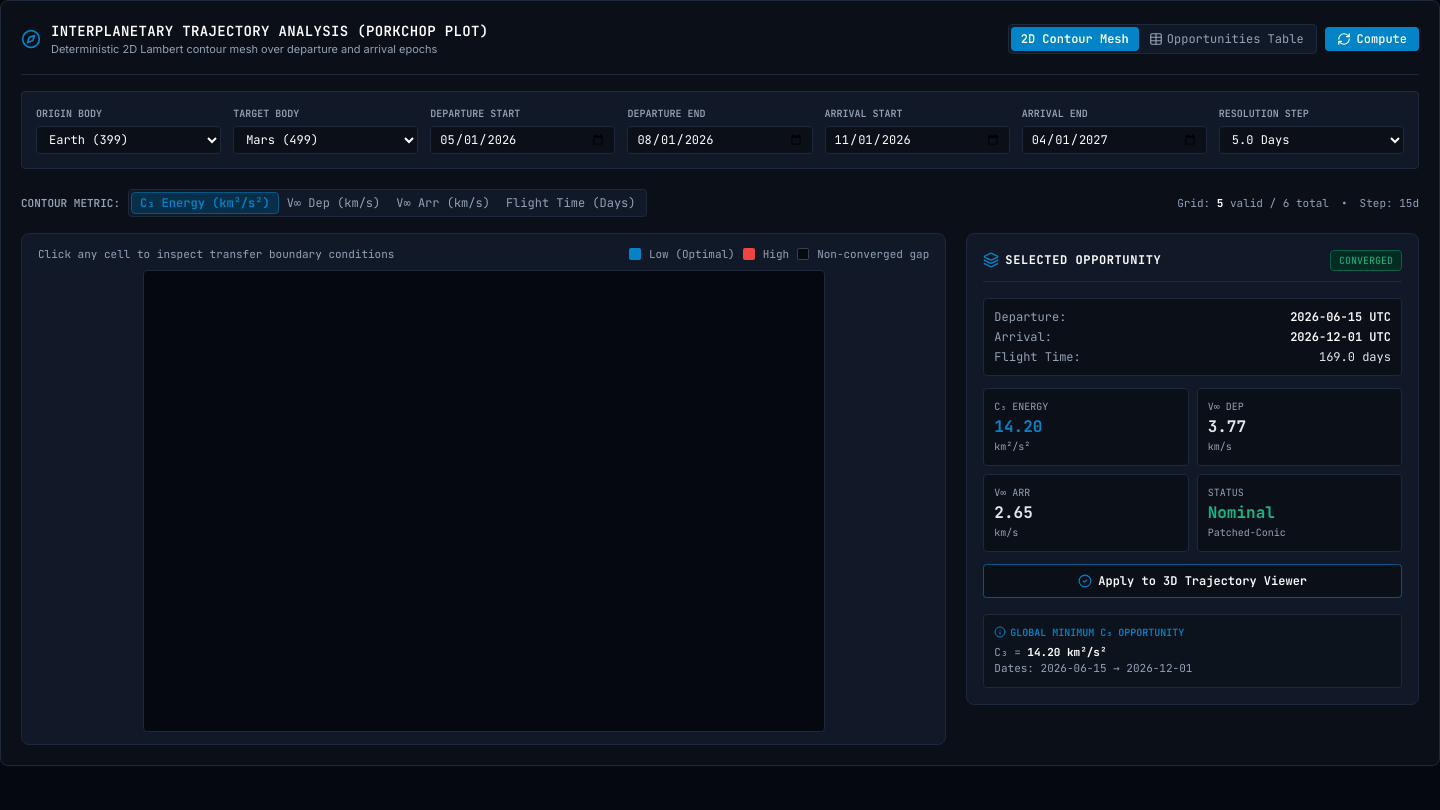
Test: PorkchopPlot Component (Astrodynamics Lab) › renders accessible table fallback with Pareto-optimal transfer opportunities
The width and height of the screenshot is (1440, 810).
Click the button "Opportunities Table" at (1226, 39), box [1139,27,1314,51]
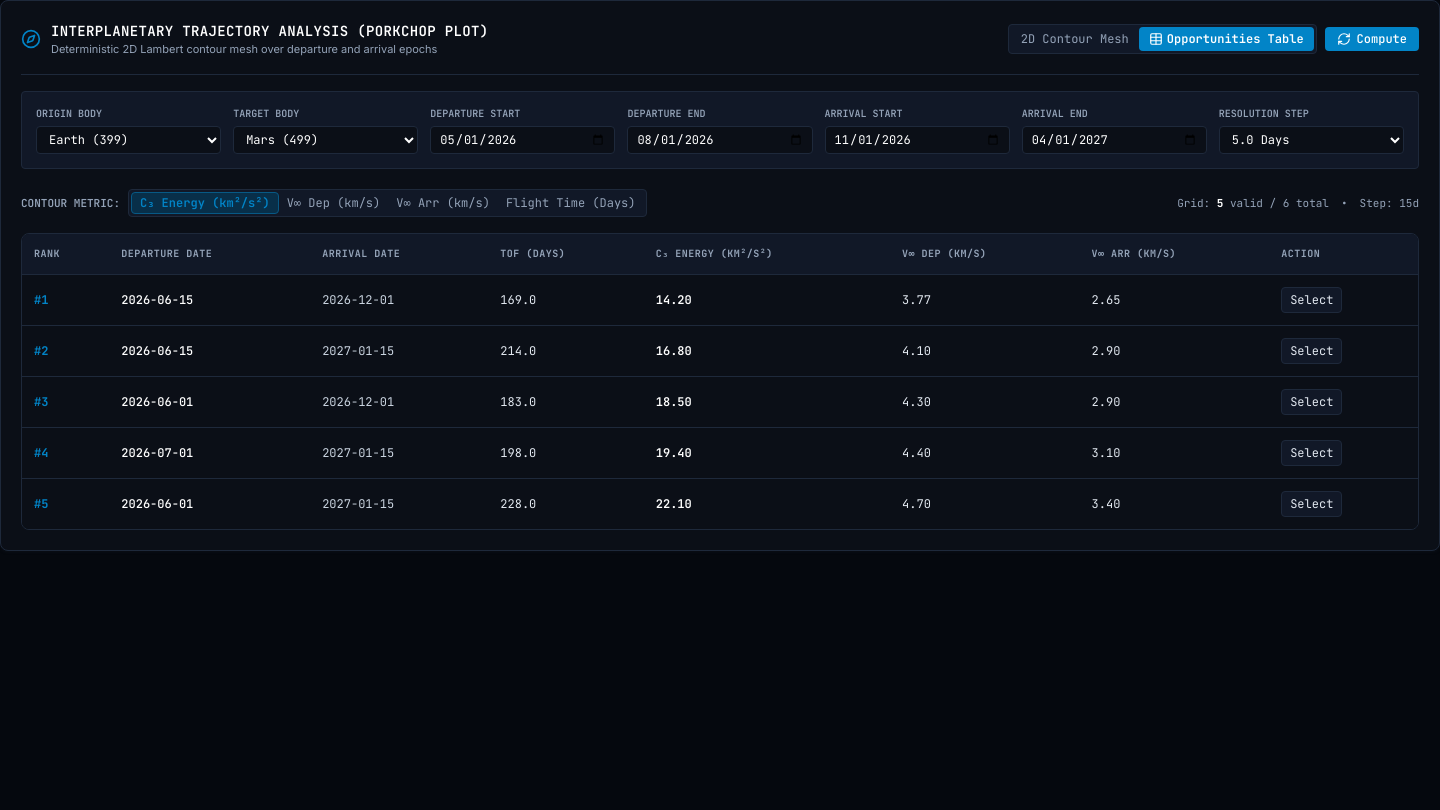
expect the element with test id "porkchop-table-fallback" is shown: met, box [21,232,1419,530]
expect the table named "Optimal Minimum C3 Trajectory Windows Table" is shown: met, box [22,234,1418,528]
expect the text "#1" is shown: met, box [22,274,109,325]
